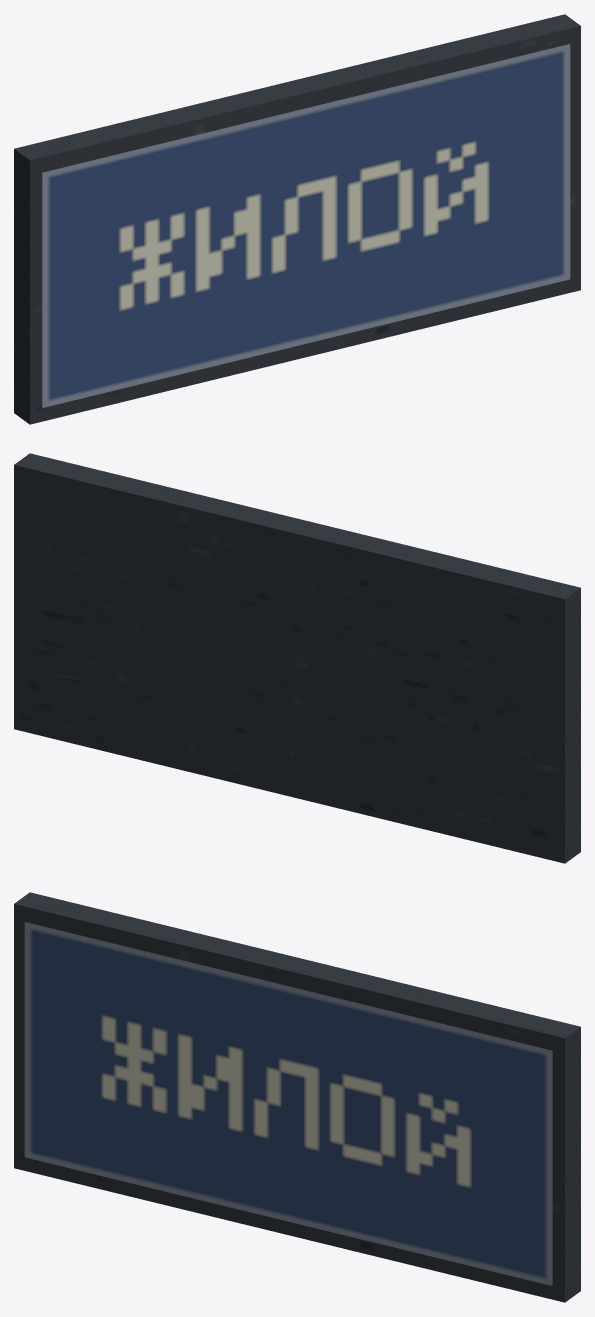
The model's file is CrewSign.fbx.
3 views of the same model, one above another, from view 1: azimuth 30°, elevation 25°; view 2: azimuth 150°, elevation 25°; view 3: azimuth 330°, elevation 25° (orthographic).
Parts seen in each view (by area): view 1: CrewSign; view 2: CrewSign; view 3: CrewSign.
Part boxes in pixels (box(x1,y1,x2,y2)): CrewSign: box(14, 14, 580, 424); CrewSign: box(14, 453, 580, 863); CrewSign: box(14, 892, 580, 1302).
Size of the model in its own units: 240 by 110 by 12.7.
